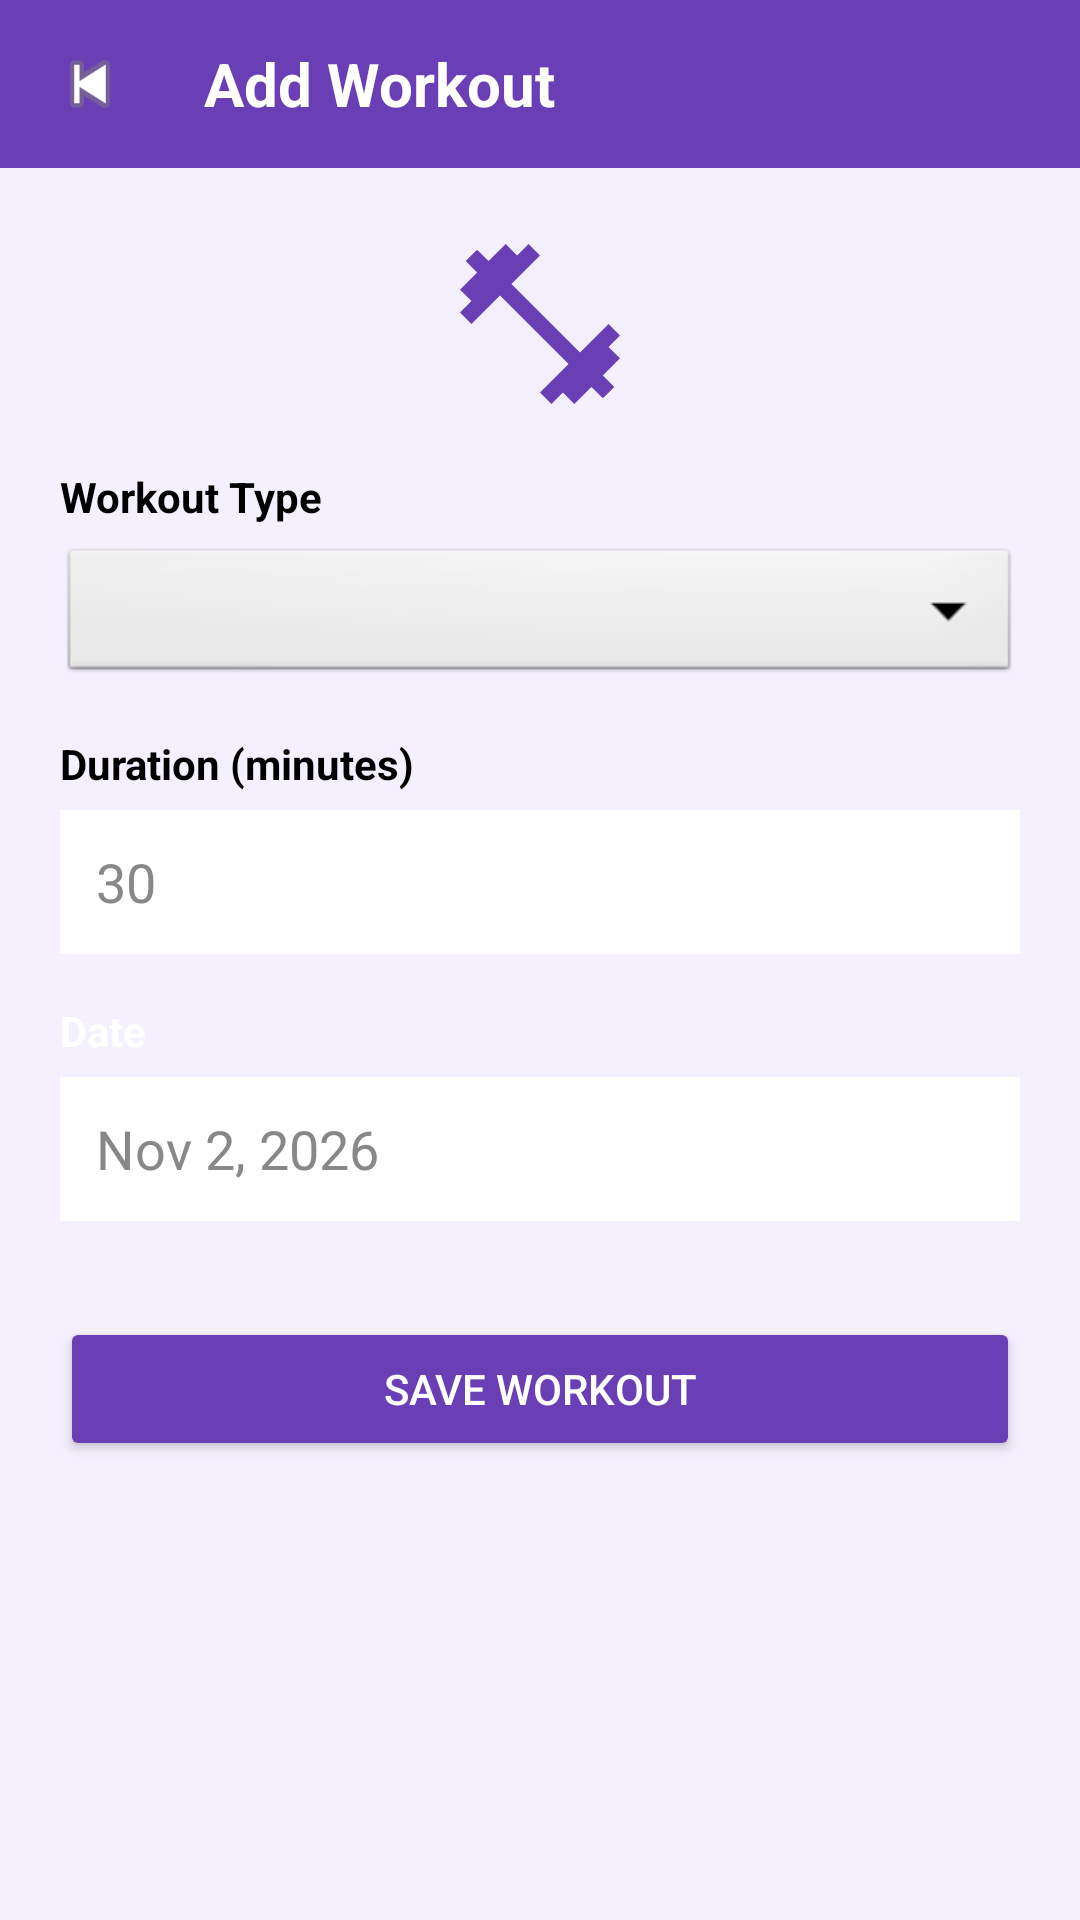

Screen size 1080px×1920px. Icon name, then its center in pixels as point (x, y):
back: point (90, 84)
